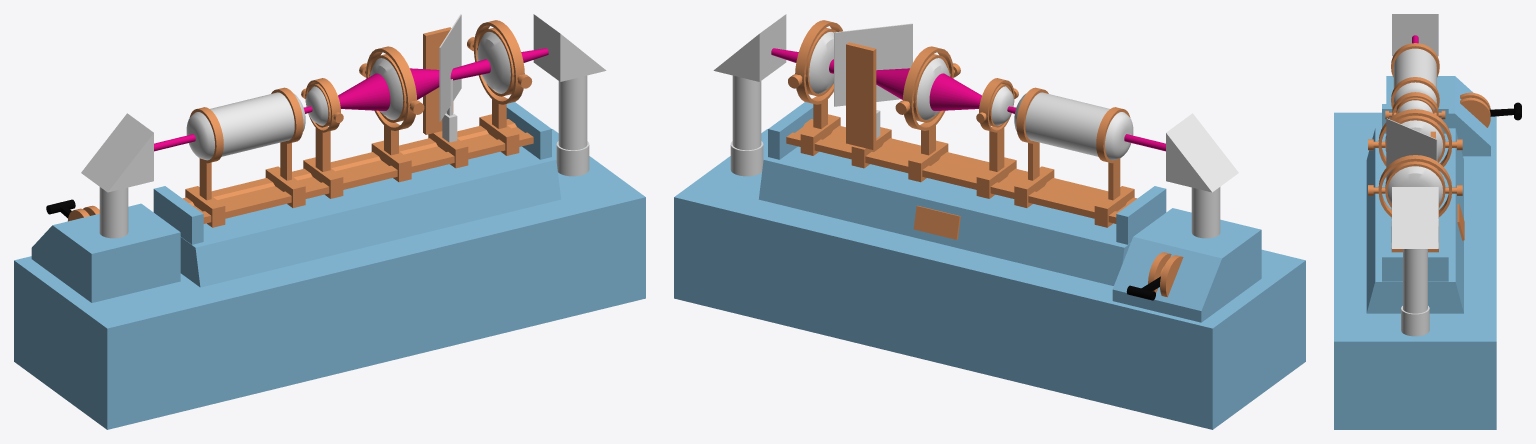
File: SpectralModulator.fbx
The picture shows the model from 3 angles, left to right: view 1: azimuth 30°, elevation 25°; view 2: azimuth 150°, elevation 25°; view 3: azimuth 270°, elevation 25°; orthographic projection. The views are drawn at different scales.
Visible parts, largest first — view 1: Cube, Cube.002, Cube.017, Cube.003, Cylinder.004, Cube.006, Cube.007, Cube.018, Cube.008, Light, Cylinder, Cube.016 (+10 smaller); view 2: Cube, Cube.002, Cube.017, Cube.003, Cube.008, Cylinder.004, Cube.007, Cube.006, Cube.018, Cylinder, Light, Cube.016 (+12 smaller); view 3: Cube, Cube.002, Cube.016, Cube.006, Cube.017, Cylinder.004, Cylinder, Cube.007, Cube.008, Cube.018, Cube.005, Cylinder.006 (+5 smaller).
Boxes of the visible parts, bbox=[...] form: Cube: bbox=[14, 129, 645, 429]; Cube.002: bbox=[180, 146, 561, 287]; Cube.017: bbox=[31, 203, 180, 302]; Cube.003: bbox=[182, 119, 533, 223]; Cylinder.004: bbox=[186, 87, 305, 163]; Cube.006: bbox=[467, 20, 532, 155]; Cube.007: bbox=[359, 46, 424, 182]; Cube.018: bbox=[81, 113, 153, 192]; Cube.008: bbox=[423, 14, 461, 142]; Light: bbox=[154, 48, 548, 151]; Cylinder: bbox=[556, 75, 589, 176]; Cube.016: bbox=[533, 14, 606, 81]; Cube: bbox=[674, 129, 1305, 429]; Cube.002: bbox=[758, 146, 1130, 285]; Cube.017: bbox=[1112, 208, 1261, 322]; Cube.003: bbox=[786, 119, 1137, 223]; Cube.008: bbox=[834, 23, 912, 149]; Cylinder.004: bbox=[1014, 87, 1133, 163]; Cube.007: bbox=[895, 46, 960, 182]; Cube.006: bbox=[788, 20, 842, 155]; Cube.018: bbox=[1166, 113, 1238, 192]; Cylinder: bbox=[730, 75, 763, 176]; Light: bbox=[771, 48, 1165, 151]; Cube.016: bbox=[713, 14, 786, 81]; Cube: bbox=[1334, 112, 1496, 429]; Cube.002: bbox=[1366, 128, 1463, 313]; Cube.016: bbox=[1392, 187, 1438, 248]; Cube.006: bbox=[1368, 155, 1462, 252]; Cube.017: bbox=[1386, 76, 1490, 156]; Cylinder.004: bbox=[1391, 43, 1439, 112]; Cylinder: bbox=[1401, 249, 1429, 336]; Cube.007: bbox=[1368, 109, 1462, 218]; Cube.008: bbox=[1386, 118, 1437, 179]; Cube.018: bbox=[1392, 14, 1438, 56]; Cube.005: bbox=[1382, 252, 1448, 281]; Cylinder.006: bbox=[1460, 92, 1490, 127].
Bounding box in the file's own units: 533 × 257 × 184.
